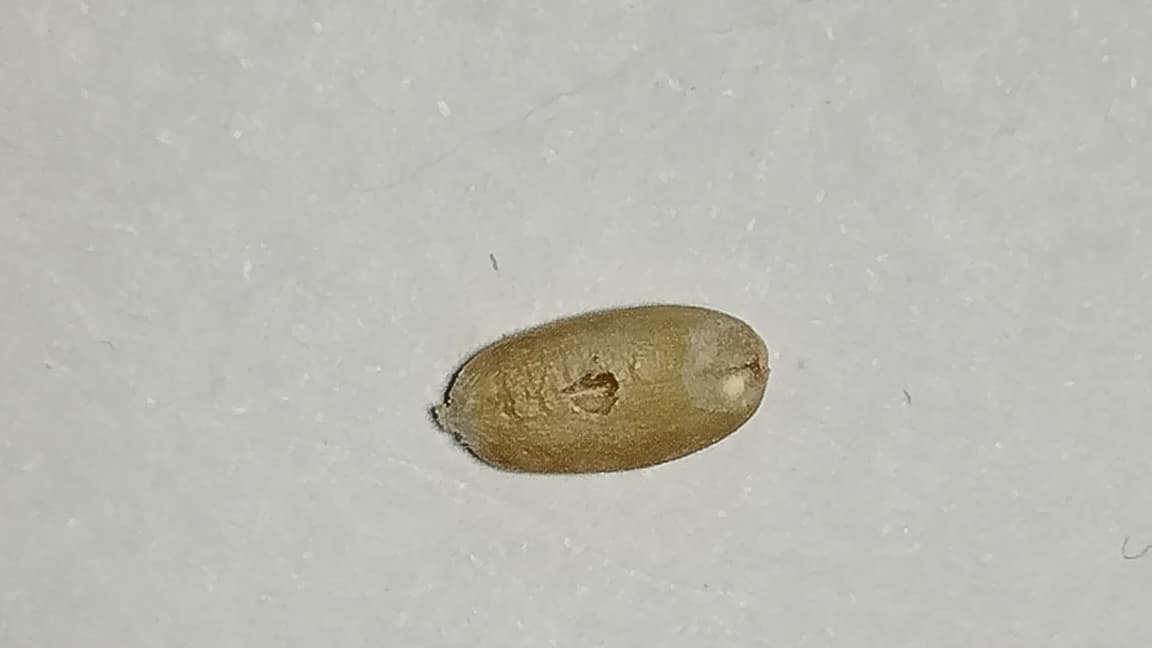damage: (433, 301, 771, 474)
insectdamage: (675, 309, 772, 415), (561, 354, 639, 415)
